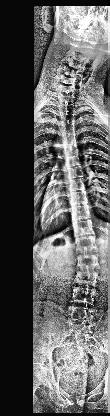Vertebrae: (68, 284, 98, 306), (73, 268, 101, 286), (68, 305, 96, 323), (75, 236, 99, 254), (73, 220, 96, 238), (70, 205, 92, 221), (75, 256, 101, 268), (70, 190, 88, 206), (67, 178, 86, 192), (64, 154, 82, 168), (68, 165, 84, 179), (60, 131, 76, 143), (62, 144, 80, 154), (60, 121, 76, 131), (60, 112, 76, 122), (58, 102, 74, 112)
